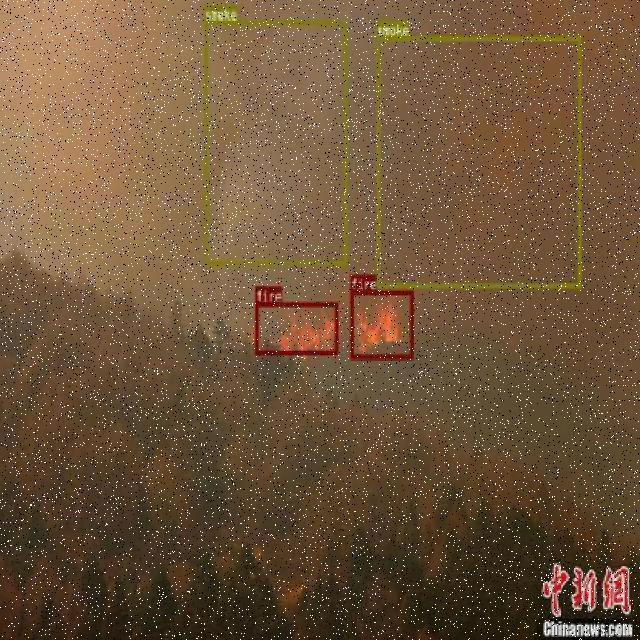Smoke: (376, 35, 581, 288), (205, 21, 346, 264)
